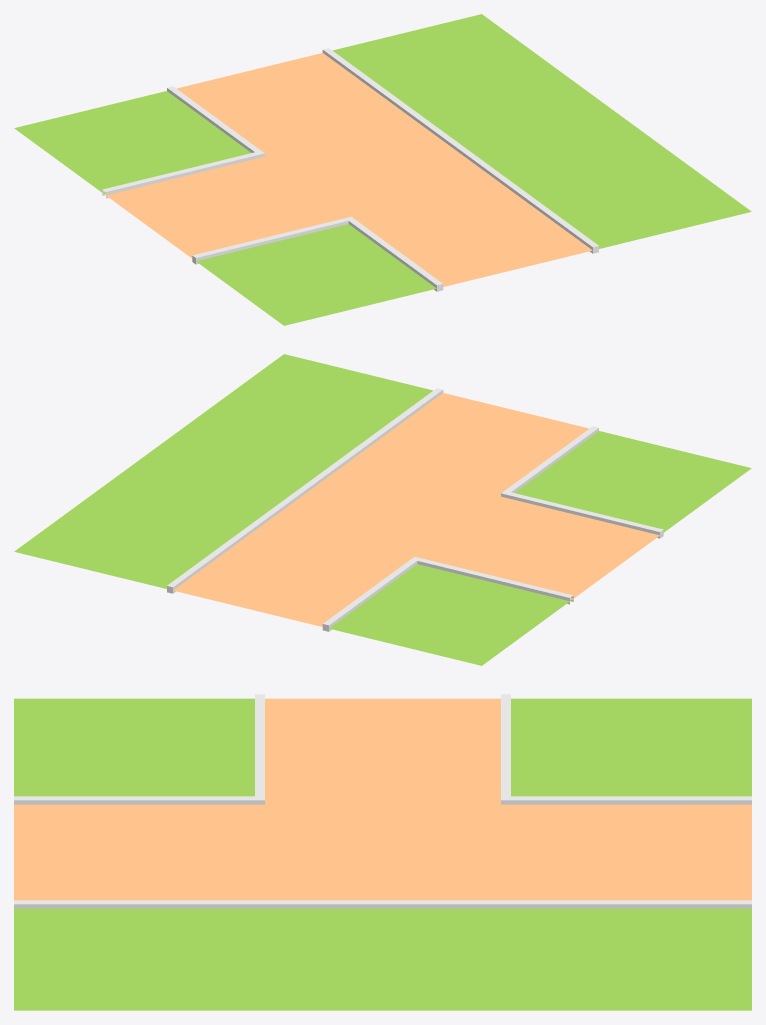
Rendered from park_road_005.glb.
3 views of the same model, one above another, from view 1: azimuth 30°, elevation 25°; view 2: azimuth 150°, elevation 25°; view 3: azimuth 270°, elevation 25° (orthographic). The views are drawn at different scales.
Visible parts, largest first — view 1: park_road_005; view 2: park_road_005; view 3: park_road_005.
Part boxes in pixels (<box>): park_road_005: <box>14,14,751,325</box>; park_road_005: <box>14,354,751,665</box>; park_road_005: <box>14,694,751,1010</box>.
Size of the model in its own units: 15 by 0.2 by 15.
Materials: 1 (1 with a texture image).
